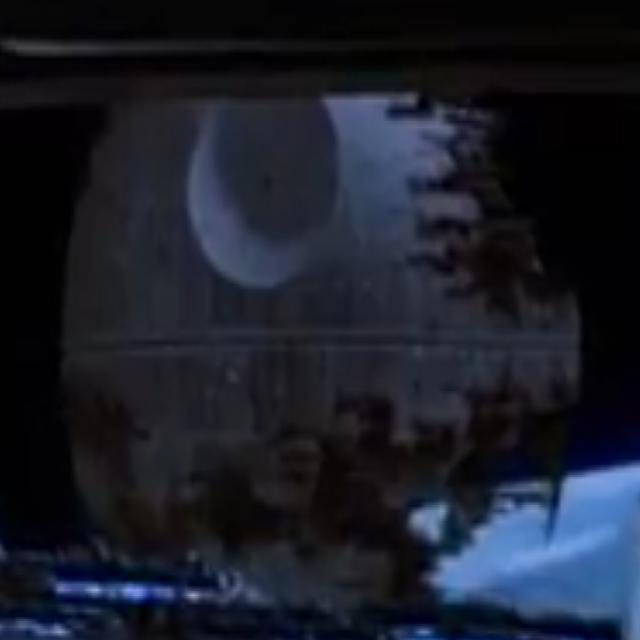deathStar: (72, 90, 578, 570)
